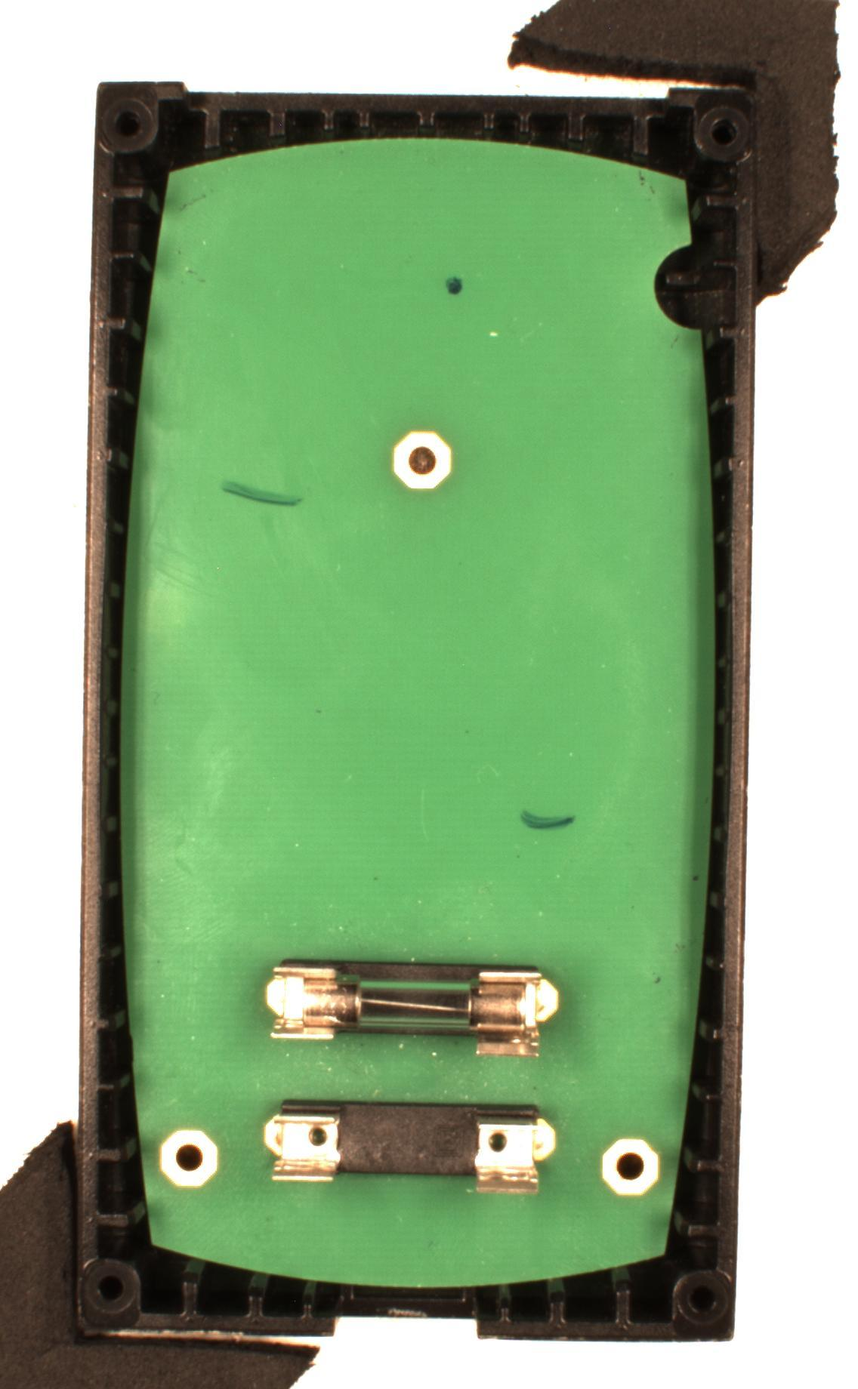Linijsko Ostecene: (219, 479, 303, 510), (519, 809, 576, 832)
Nepostojanje osiguraca: (263, 1098, 558, 1196)
Tockasto Ostecenje: (445, 276, 463, 296)
